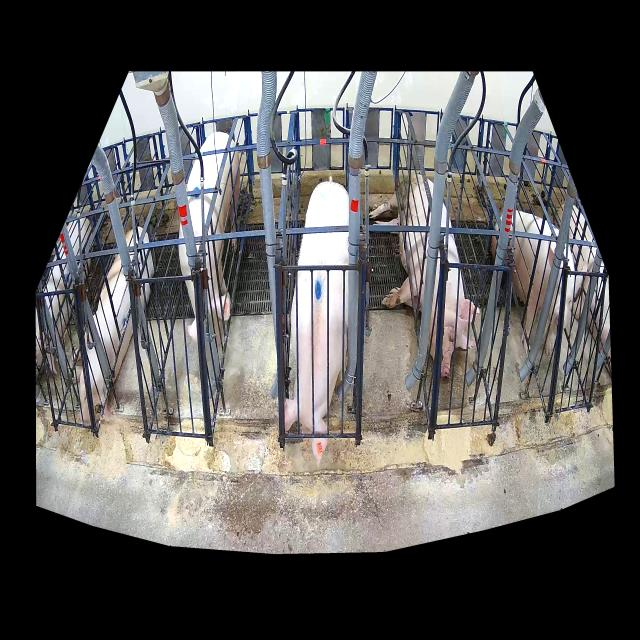pig: (370, 174, 475, 376), (284, 177, 348, 464), (72, 226, 154, 423), (492, 210, 588, 356), (179, 132, 240, 346)
